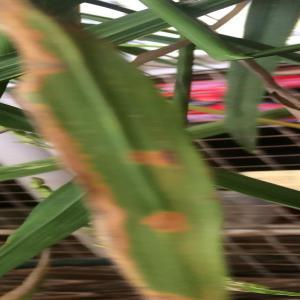2 BacterialBlight: (86, 74, 210, 298)
